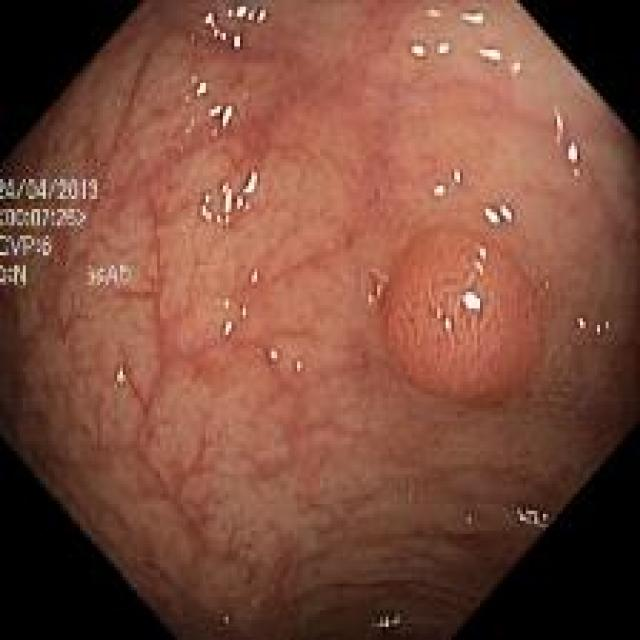Polyps: (390, 231, 541, 400)
